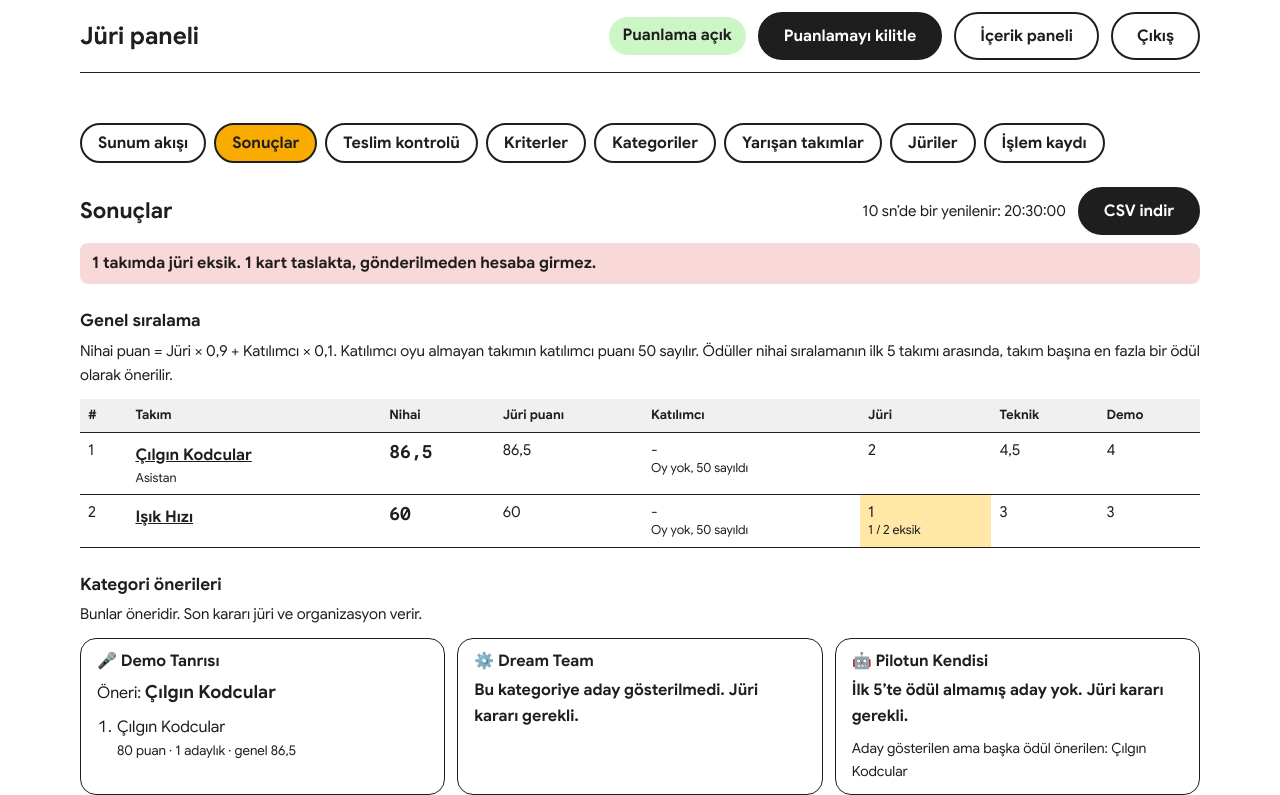
Test: sonuçlar › takıma tıklayınca jüri puanlarını ve gerekçeleri açar
The width and height of the screenshot is (1280, 795).
Click the button "Çılgın Kodcular" at (194, 455), box [135,441,252,470]
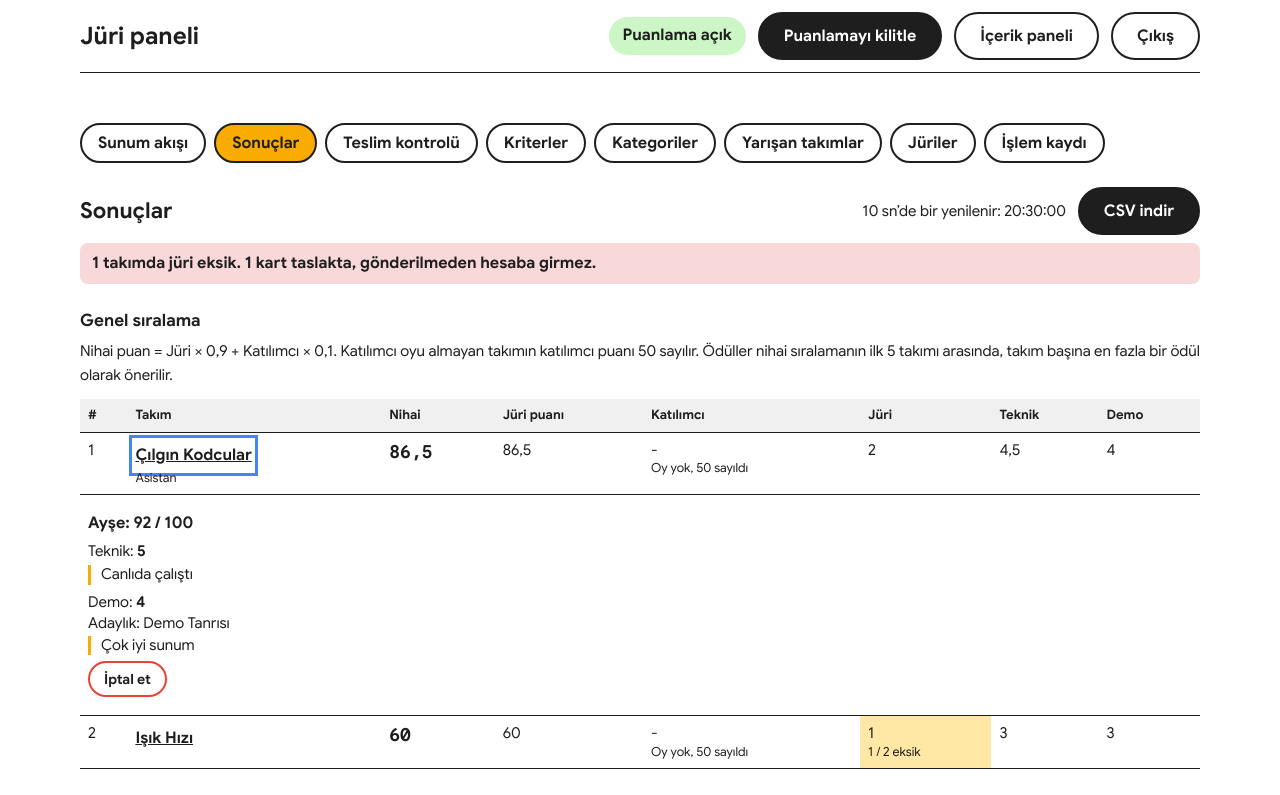
Result: the heading "Ayşe: 92 / 100" is shown at [88,513,193,533]
Result: the text "Canlıda çalıştı" is shown at [88,565,848,585]
Result: the text "Çok iyi sunum" is shown at [88,636,848,655]
